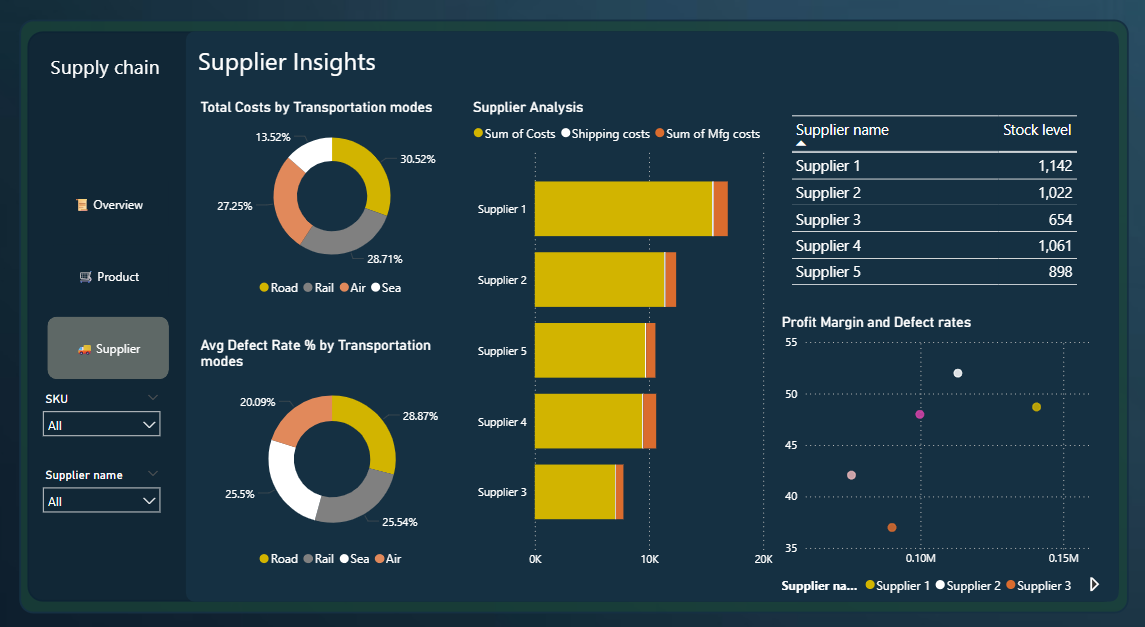

This screenshot's page, from the dashboard's own definition file:
{"tool":"powerbi","page":{"name":"🚚   Supplier","canvas":[1280,720],"ordinal":2},"visuals":[{"type":"donutChart","fields":{"Category":["supply_chain_data.Transportation modes"],"Y":["_Measures.Total Costs"]},"box":[225,118,299.1,226.4],"z":0},{"type":"pageNavigator","box":[61.8,198.9,134.5,229.2],"z":0,"group":"g1"},{"type":"slicer","fields":{"Values":["supply_chain_data.SKU"]},"box":[46.7,435,149.6,71.4],"z":1000,"group":"g1"},{"type":"donutChart","fields":{"Category":["supply_chain_data.Transportation modes"],"Y":["_Measures.Avg Defect Rate %"]},"box":[225,380.1,299.1,262.1],"z":1000},{"type":"barChart","title":"Supplier Analysis","fields":{"Category":["supply_chain_data.Supplier name"],"Y":["Sum(supply_chain_data.Costs)","Sum(supply_chain_data.Shipping costs)","Sum(supply_chain_data.Mfg costs)"]},"box":[524.2,118,338.9,524.2],"z":2000},{"type":"slicer","fields":{"Values":["supply_chain_data.Supplier name"]},"box":[46.7,518.7,149.6,71.4],"z":2000,"group":"g1"},{"type":"textbox","box":[60.4,57.6,161.9,82.3],"z":3000,"group":"g1"},{"type":"tableEx","fields":{"Values":["supply_chain_data.Supplier name","_Measures.Stock level"]},"box":[872.7,131.7,362.3,212.7],"z":3000},{"type":"scatterChart","title":"Profit Margin and Defect rates ","fields":{"X":["Sum(supply_chain_data.Profit Margin)"],"Y":["Sum(supply_chain_data.Defect rates)"],"Category":["supply_chain_data.Supplier name"],"Series":["supply_chain_data.Supplier name"]},"box":[863.1,354,367.8,317],"z":4000},{"type":"textbox","box":[222.3,53.5,452.8,81],"z":5000},{"type":"group","id":"g1","title":"Group 1","box":[46.7,57.6,175.6,532.4],"z":6000}]}

Visuals, with their boxes in screenshot pixels (x1, y1, x2, y2), scaled from the page's 1280x720 canvas onto the 1145x627 screenshot:
donutChart - supply_chain_data.Transportation modes x _Measures.Total Costs: (201, 103, 469, 300)
pageNavigator: (55, 173, 176, 373)
slicer - supply_chain_data.SKU: (42, 379, 176, 441)
donutChart - supply_chain_data.Transportation modes x _Measures.Avg Defect Rate %: (201, 331, 469, 559)
"Supplier Analysis" barChart: (469, 103, 772, 559)
slicer - supply_chain_data.Supplier name: (42, 452, 176, 514)
textbox: (54, 50, 199, 122)
tableEx - supply_chain_data.Supplier name x _Measures.Stock level: (781, 115, 1105, 300)
"Profit Margin and Defect rates " scatterChart: (772, 308, 1101, 584)
textbox: (199, 47, 604, 117)
"Group 1" group: (42, 50, 199, 514)
